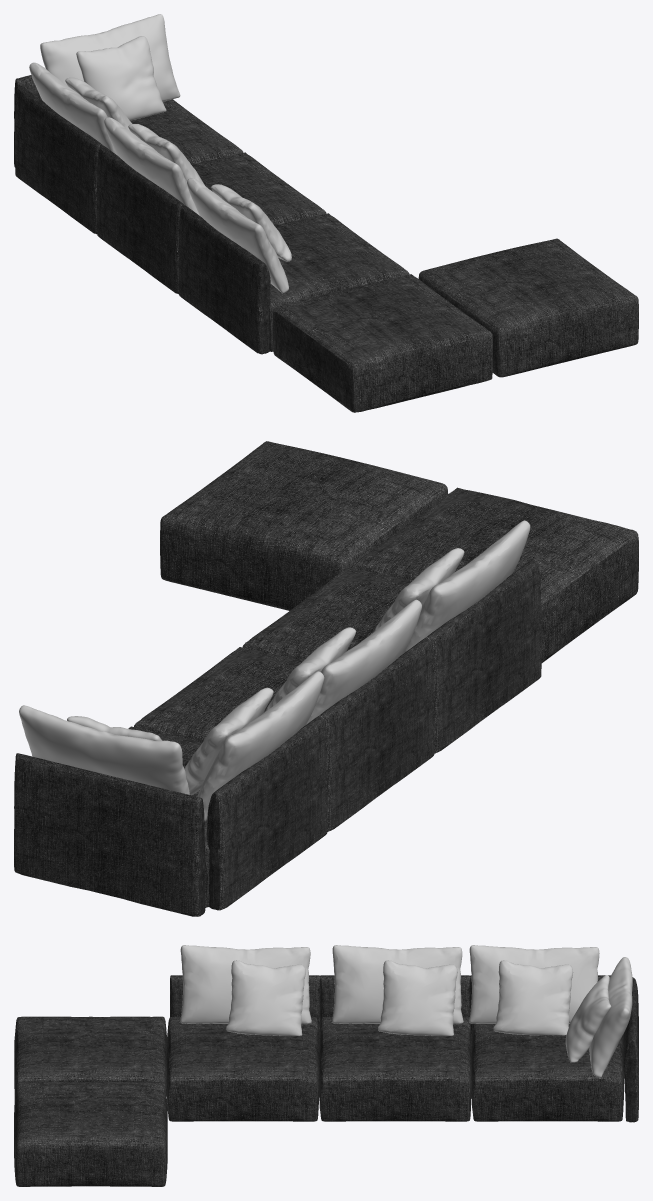
File: estemismo20.FBX
3 views of the same model, one above another, from view 1: azimuth 30°, elevation 25°; view 2: azimuth 150°, elevation 25°; view 3: azimuth 270°, elevation 25° (orthographic). The views are drawn at different scales.
Visible parts, largest first — view 1: minotti_milano064, minotti_milano00, minotti_milano069, minotti_milano21, minotti_milano068, minotti_milano065, minotti_milano49, minotti_milano066, minotti_milano48, minotti_milano50, minotti_milano067, minotti_milano072 (+4 smaller); view 2: minotti_milano00, minotti_milano070, minotti_milano064, minotti_milano21, minotti_milano069, minotti_milano068, minotti_milano48, minotti_milano065, minotti_milano066, minotti_milano074, minotti_milano50, minotti_milano072 (+5 smaller); view 3: minotti_milano00, minotti_milano066, minotti_milano065, minotti_milano067, minotti_milano064, minotti_milano072, minotti_milano50, minotti_milano071, minotti_milano59, minotti_milano073, minotti_milano074, minotti_milano48 (+4 smaller).
Part boxes in pixels (bbox=[...]): minotti_milano064: bbox=[272, 274, 492, 412]; minotti_milano00: bbox=[418, 238, 638, 377]; minotti_milano069: bbox=[178, 204, 271, 354]; minotti_milano21: bbox=[15, 85, 102, 234]; minotti_milano068: bbox=[97, 145, 183, 294]; minotti_milano065: bbox=[269, 213, 409, 351]; minotti_milano49: bbox=[76, 36, 166, 120]; minotti_milano066: bbox=[192, 152, 326, 225]; minotti_milano48: bbox=[40, 14, 180, 101]; minotti_milano50: bbox=[187, 178, 288, 293]; minotti_milano067: bbox=[130, 99, 243, 164]; minotti_milano072: bbox=[104, 117, 199, 215]; minotti_milano00: bbox=[160, 441, 447, 610]; minotti_milano070: bbox=[14, 753, 205, 916]; minotti_milano064: bbox=[351, 487, 638, 662]; minotti_milano21: bbox=[206, 715, 327, 910]; minotti_milano069: bbox=[427, 558, 541, 753]; minotti_milano068: bbox=[320, 636, 434, 831]; minotti_milano48: bbox=[19, 705, 189, 794]; minotti_milano065: bbox=[242, 567, 411, 660]; minotti_milano066: bbox=[134, 647, 302, 742]; minotti_milano074: bbox=[197, 671, 324, 821]; minotti_milano50: bbox=[403, 520, 530, 653]; minotti_milano072: bbox=[306, 599, 421, 724]; minotti_milano00: bbox=[14, 1081, 167, 1186]; minotti_milano066: bbox=[319, 1016, 471, 1121]; minotti_milano065: bbox=[167, 1016, 319, 1121]; minotti_milano067: bbox=[471, 1023, 624, 1121]; minotti_milano064: bbox=[14, 1016, 166, 1099]; minotti_milano072: bbox=[332, 945, 463, 1024]; minotti_milano50: bbox=[180, 945, 311, 1024]; minotti_milano071: bbox=[378, 960, 457, 1035]; minotti_milano59: bbox=[226, 960, 305, 1035]; minotti_milano073: bbox=[493, 960, 573, 1035]; minotti_milano074: bbox=[469, 945, 599, 1023]; minotti_milano48: bbox=[589, 957, 632, 1077].
Size of the model in its own units: 202 by 83.8 by 399.
